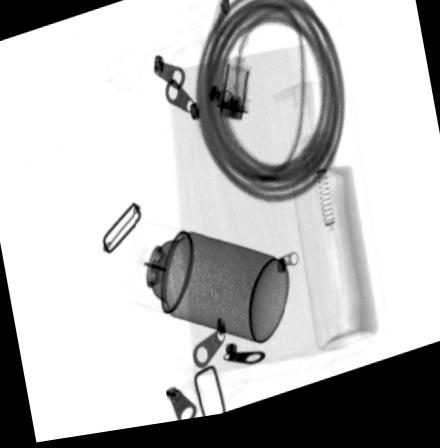Sprayer: (119, 222, 291, 352)
